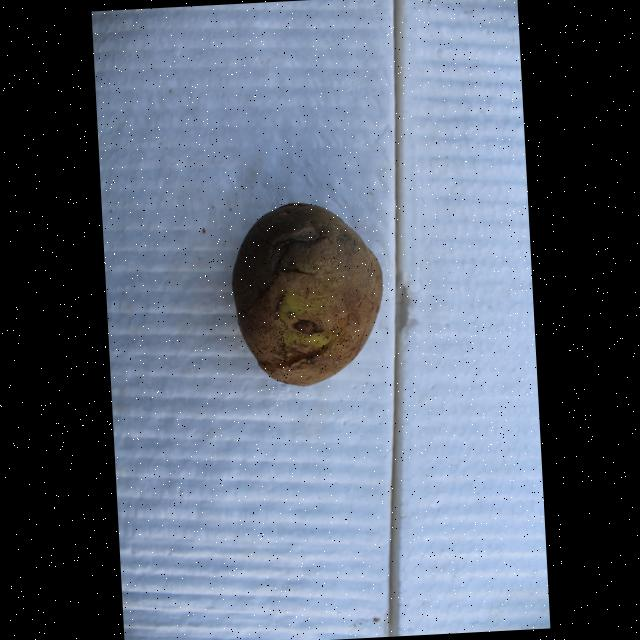Diseased-fungal potato: (225, 194, 392, 390)
